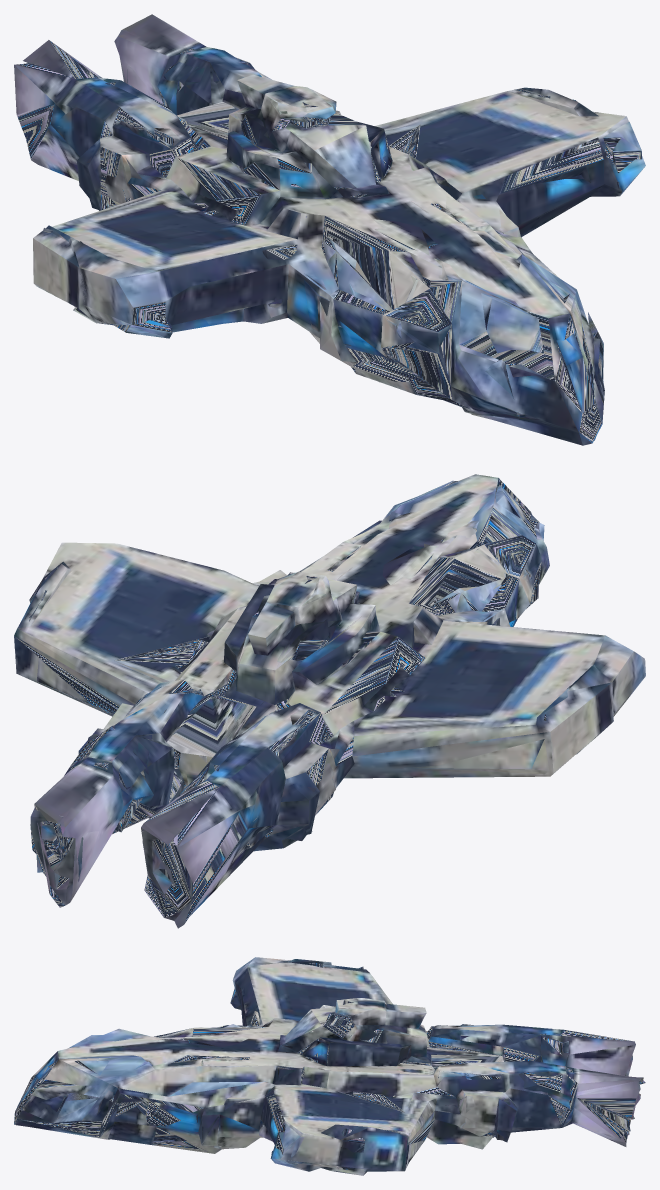
The model's file is boss-warden.glb.
The picture shows the model from 3 angles, top to bottom: view 1: azimuth 30°, elevation 25°; view 2: azimuth 150°, elevation 25°; view 3: azimuth 270°, elevation 25°; orthographic projection. The views are drawn at different scales.
Bounding box in the file's own units: 0.8839 × 0.3294 × 1.3.
Materials: 1 (1 with a texture image).
